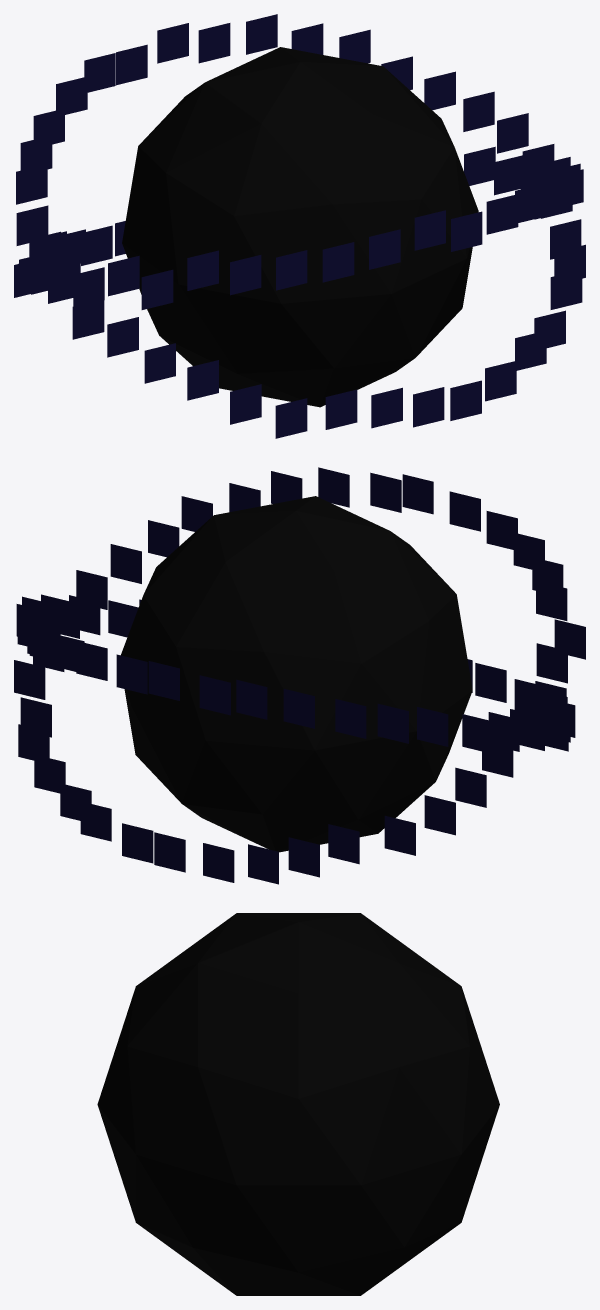
File: daemon_BLACKOUT.glb
The picture shows the model from 3 angles, top to bottom: view 1: azimuth 30°, elevation 25°; view 2: azimuth 150°, elevation 25°; view 3: azimuth 270°, elevation 25°; orthographic projection. The views are drawn at different scales.
Parts seen in each view (by area): view 1: t_bo_sphere, t_bo_ring; view 2: t_bo_sphere, t_bo_ring; view 3: t_bo_sphere.
Part boxes in pixels (<box>): t_bo_sphere: <box>122,47,478,407</box>; t_bo_ring: <box>14,14,585,438</box>; t_bo_sphere: <box>121,496,472,852</box>; t_bo_ring: <box>14,467,585,884</box>; t_bo_sphere: <box>97,913,499,1295</box>.
Bounding box in the file's own units: 0.0579 × 0.036 × 0.0512.
